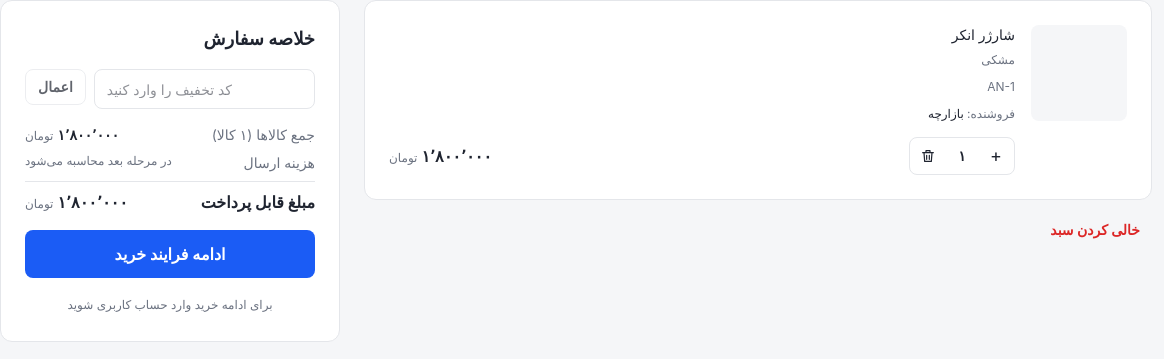
CartPage › updates quantity through the API and shows server totals
Expected: the link "شارژر انکر" is shown, [952,26,1015,43]
Click the button named "افزایش تعداد" at {"x": 996, "y": 156}, box [978,138,1014,174]
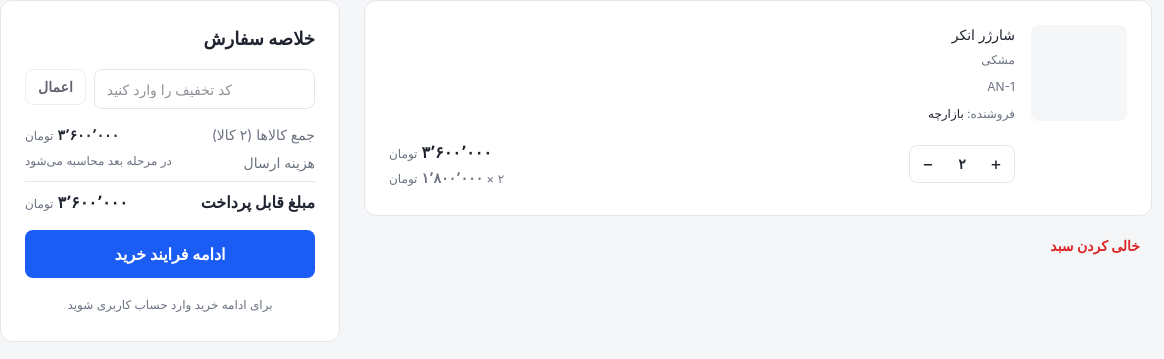
Expected: the 2nd text "۳٬۶۰۰٬۰۰۰" is shown, [421,142,492,162]
